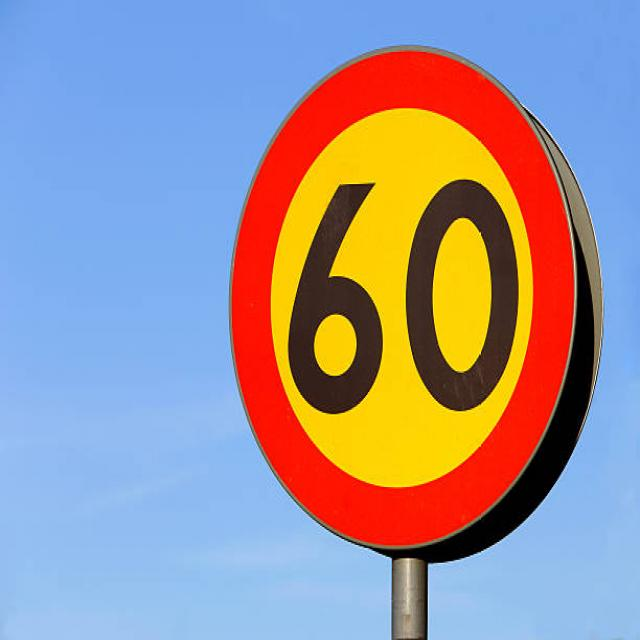speed_limit_60: (222, 33, 578, 552)
